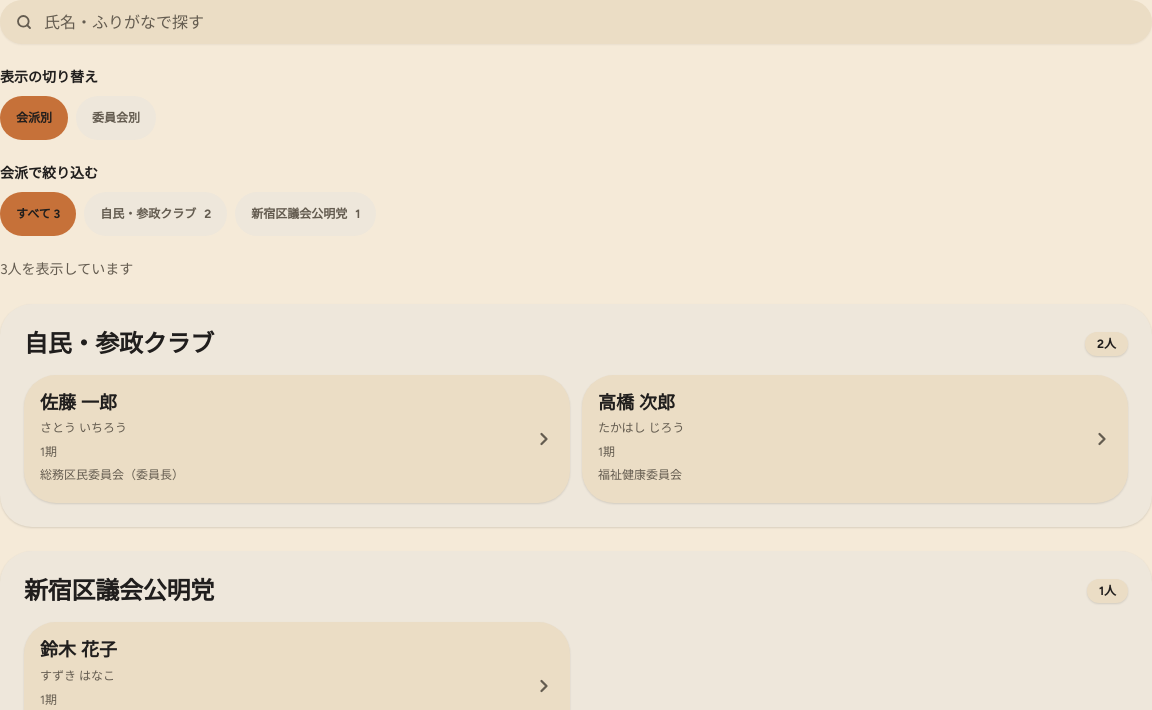
Test: CouncilorListView › 委員会のチップで1委員会だけにし、委員長 → 委員の順に並べる
Click the button "委員会別" at (116, 118), box top-left (76, 96), bottom-right (156, 140)
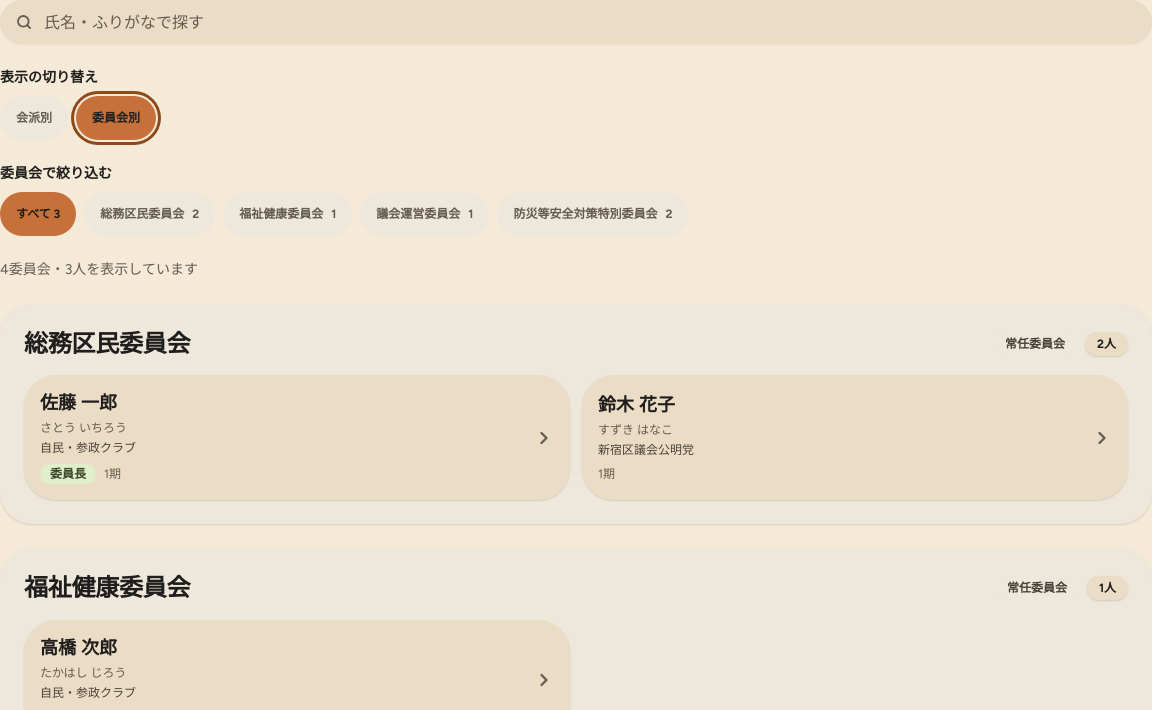
Click the button "防災等安全対策特別委員会 2" at (593, 214), box top-left (497, 192), bottom-right (688, 236)
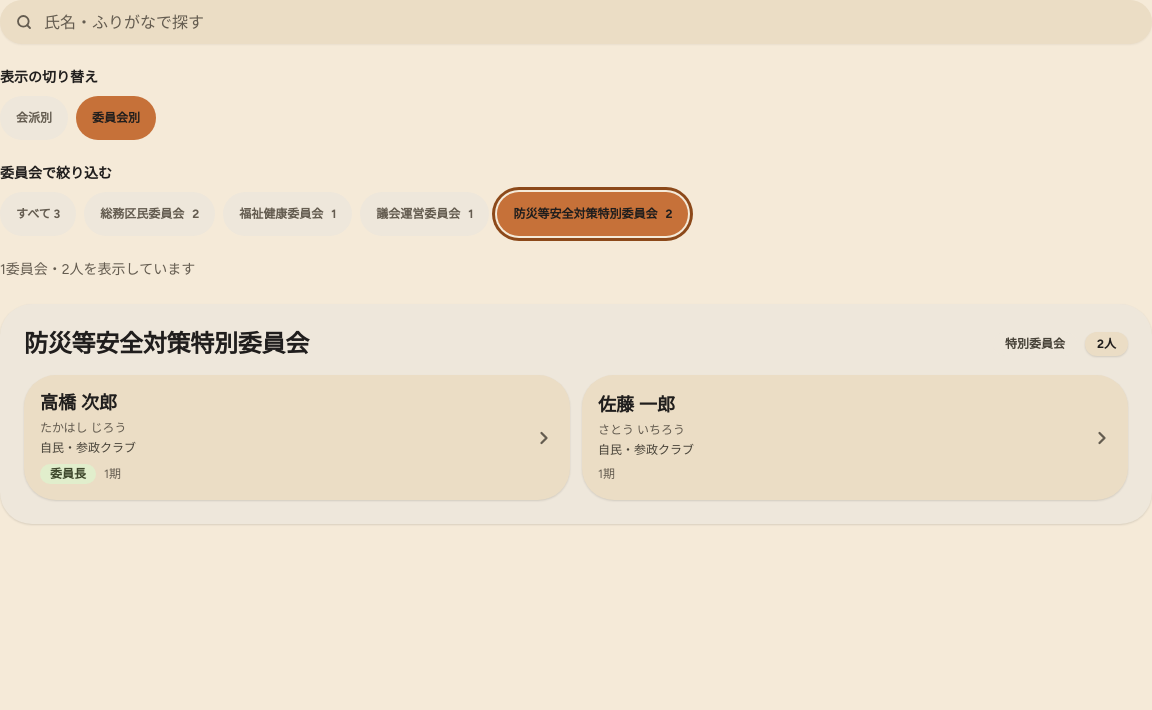
Expected: the text "委員長" is shown, top-left (40, 464), bottom-right (96, 484)
Result: the text "1委員会・2人を表示しています" is shown at top-left (0, 261), bottom-right (195, 278)
